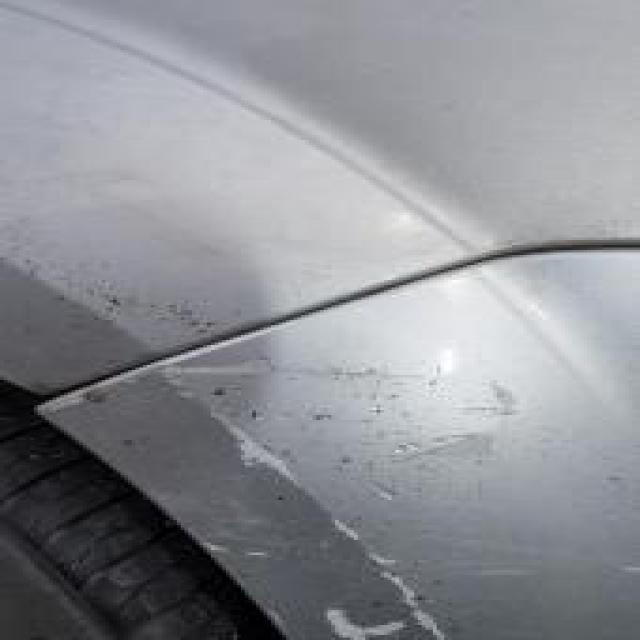Bumper: (136, 352, 606, 640)
